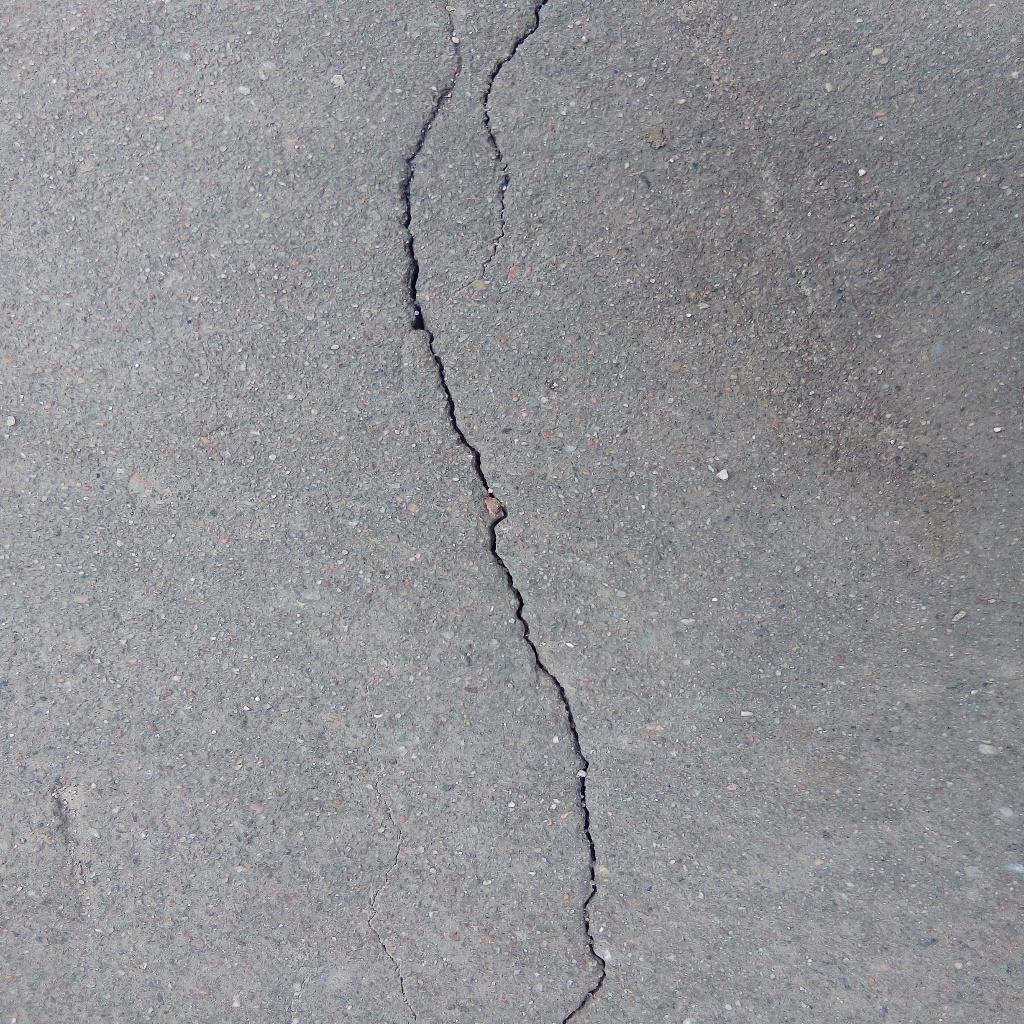Crack: (398, 1, 610, 1024), (451, 1, 546, 297)
